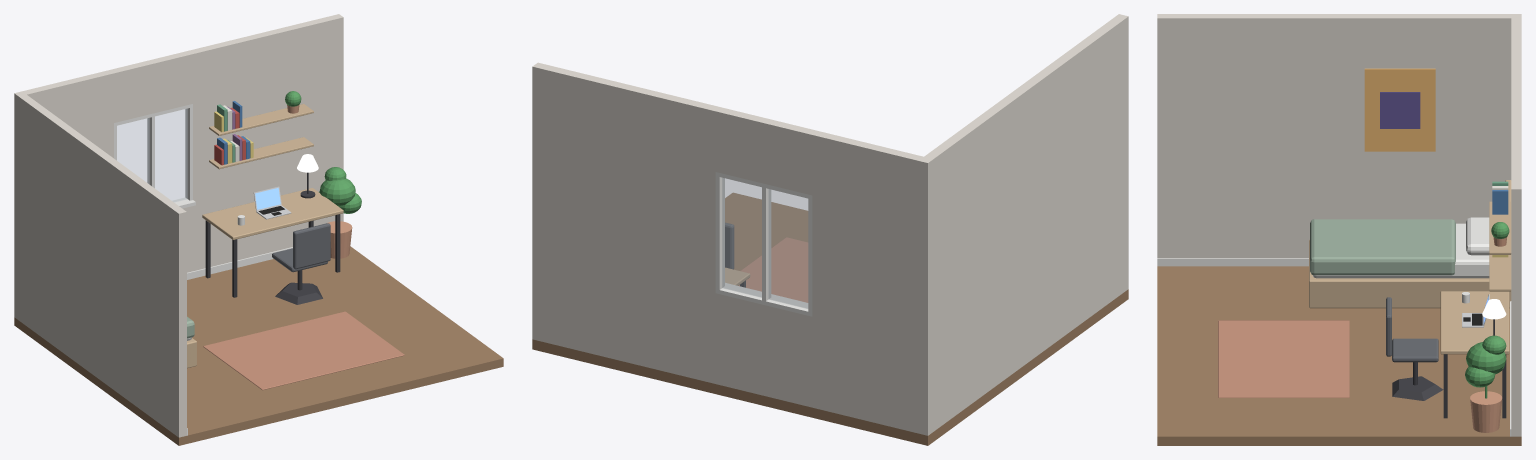
Rendered from room.glb.
The picture shows the model from 3 angles, left to right: view 1: azimuth 30°, elevation 25°; view 2: azimuth 150°, elevation 25°; view 3: azimuth 270°, elevation 25°; orthographic projection. The views are drawn at different scales.
Visible parts, largest first — view 1: wall_left, floor, wall_back_right, rug, window_glass, wall_back_above, wall_back_left, desk_top, chair_back, bookshelf_1, bookshelf_0, plant_leaves_0 (+5 smaller); view 2: wall_left, wall_back_right, wall_back_left, floor, wall_back_below, window_glass, wall_back_above, rug, window_frame_right, window_frame_mid, window_frame_bottom, window_frame_left; view 3: wall_left, floor, rug, bed_blanket, bed_frame, poster, wall_back_right, desk_top, bed_mattress, poster_art, baseboard_left, plant_pot (+12 smaller).
Boxes of the visible parts, left/top/right/bottom form: wall_left: left=14, top=91, right=186, bottom=437; floor: left=14, top=246, right=503, bottom=445; wall_back_right: left=189, top=14, right=343, bottom=271; rug: left=203, top=311, right=404, bottom=390; window_glass: left=117, top=109, right=187, bottom=202; wall_back_above: left=109, top=50, right=192, bottom=122; wall_back_left: left=22, top=70, right=113, bottom=158; desk_top: left=202, top=188, right=343, bottom=239; chair_back: left=293, top=223, right=330, bottom=269; bookshelf_1: left=209, top=104, right=313, bottom=135; bookshelf_0: left=209, top=137, right=313, bottom=169; plant_leaves_0: left=319, top=178, right=355, bottom=206; wall_left: left=918, top=14, right=1128, bottom=435; wall_back_right: left=532, top=62, right=720, bottom=383; wall_back_left: left=812, top=131, right=923, bottom=433; floor: left=532, top=192, right=1128, bottom=445; wall_back_below: left=715, top=293, right=812, bottom=407; window_glass: left=722, top=178, right=807, bottom=308; wall_back_above: left=715, top=107, right=817, bottom=195; rug: left=739, top=237, right=808, bottom=302; window_frame_right: left=715, top=172, right=724, bottom=289; window_frame_mid: left=762, top=183, right=771, bottom=302; window_frame_bottom: left=715, top=283, right=812, bottom=316; window_frame_left: left=808, top=194, right=812, bottom=315; wall_left: left=1157, top=14, right=1521, bottom=258; floor: left=1157, top=266, right=1521, bottom=445; rug: left=1218, top=320, right=1349, bottom=397; bed_blanket: left=1310, top=219, right=1455, bottom=275; bed_frame: left=1309, top=239, right=1511, bottom=308; poster: left=1364, top=68, right=1435, bottom=151; wall_back_right: left=1511, top=108, right=1521, bottom=436; desk_top: left=1440, top=291, right=1509, bottom=354; bed_mattress: left=1312, top=223, right=1489, bottom=278; poster_art: left=1380, top=92, right=1420, bottom=128; baseboard_left: left=1157, top=258, right=1308, bottom=266; plant_pot: left=1470, top=391, right=1502, bottom=432.
Size of the model in its own units: 4.13 by 2.8 by 3.6.
